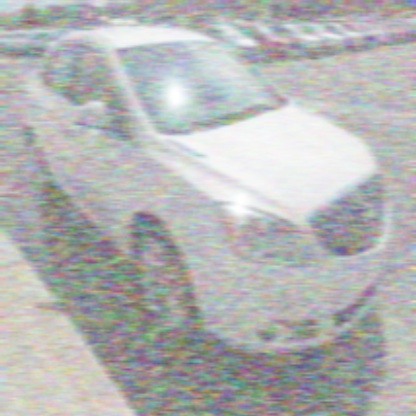Vehicle: (18, 21, 397, 361)
